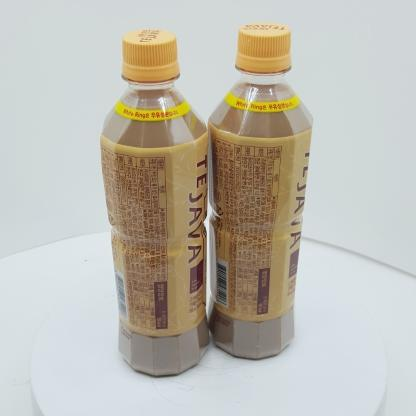-------------500ML: (100, 29, 210, 375), (206, 22, 314, 359)
